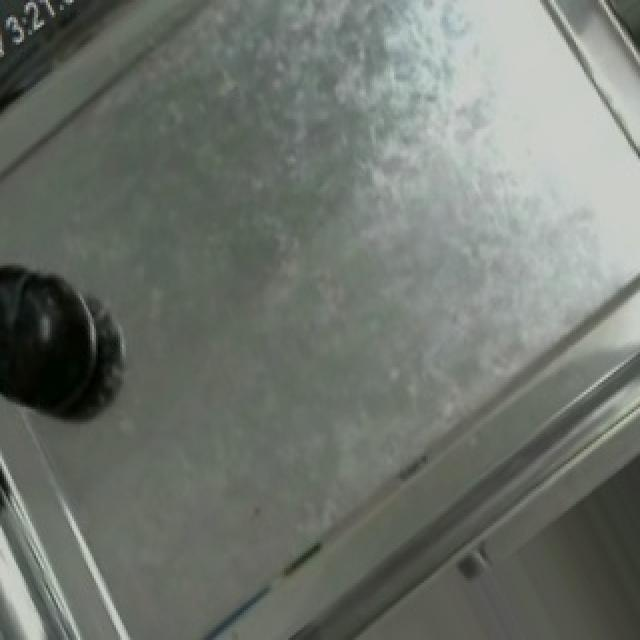Fruit: (0, 253, 120, 429)
